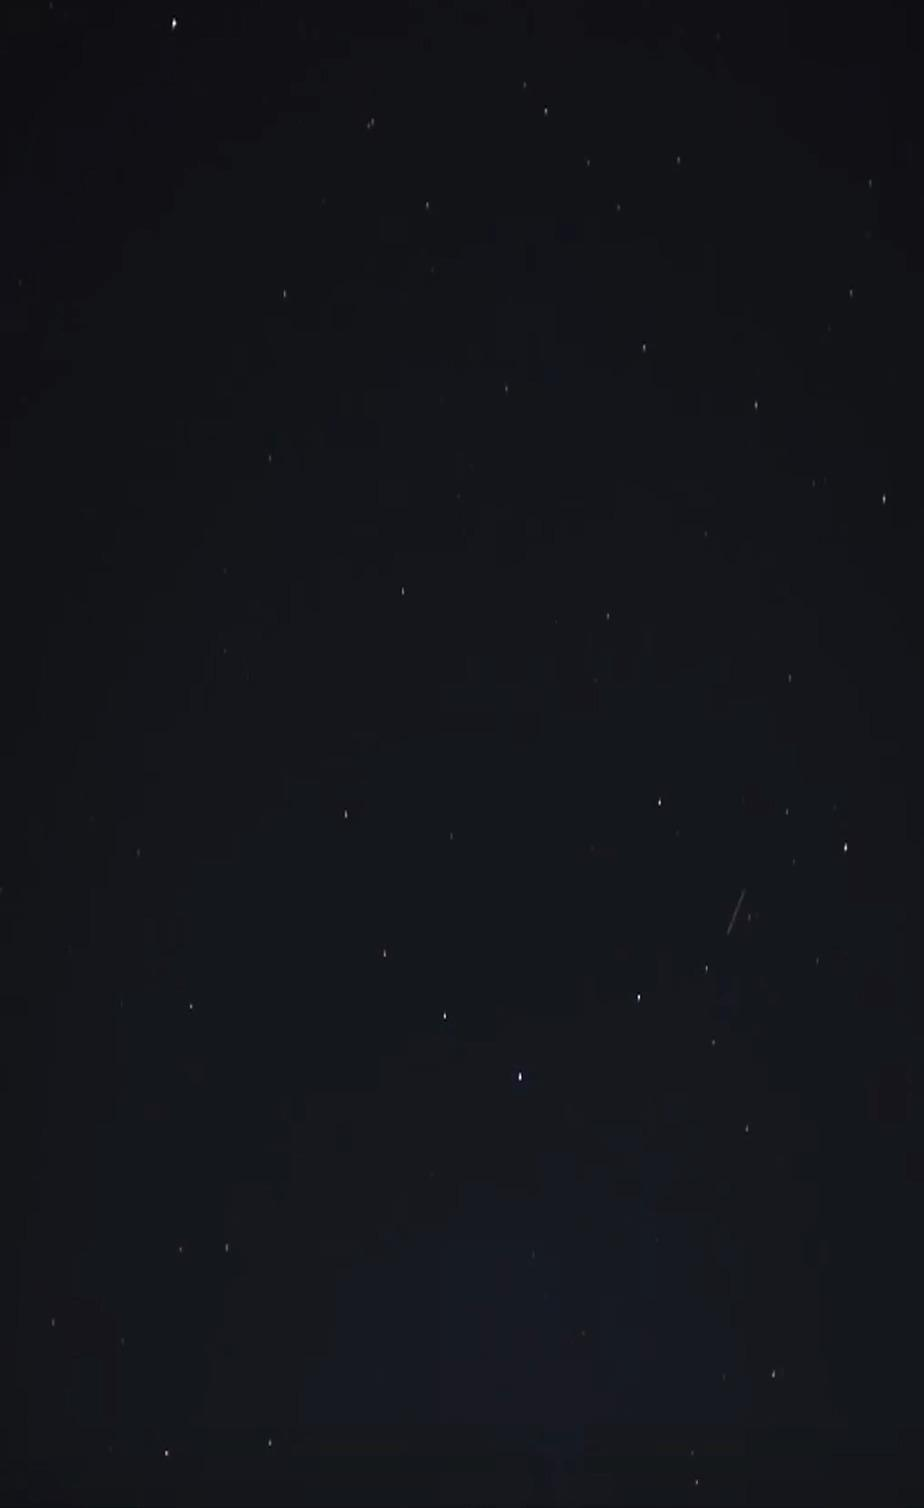meteorite: (695, 880, 778, 945)
